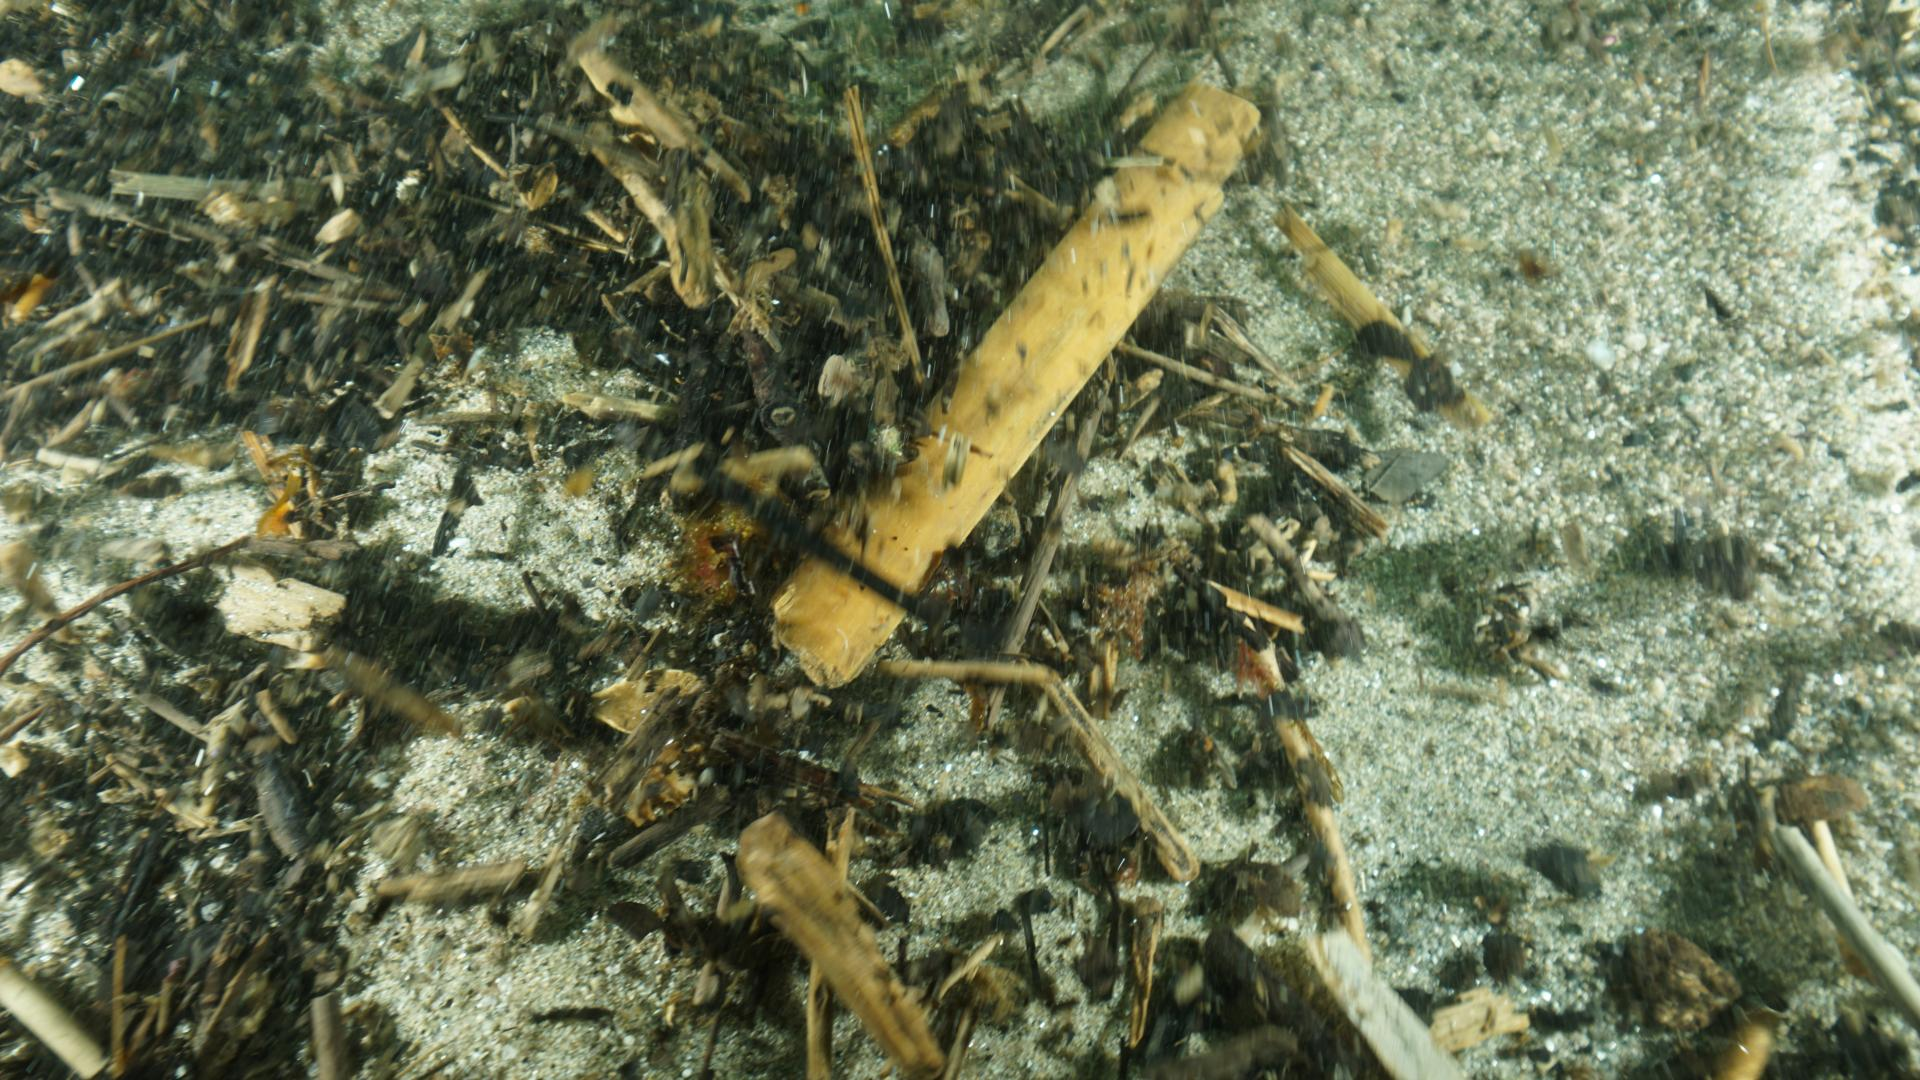wood: (767, 74, 1262, 684)
